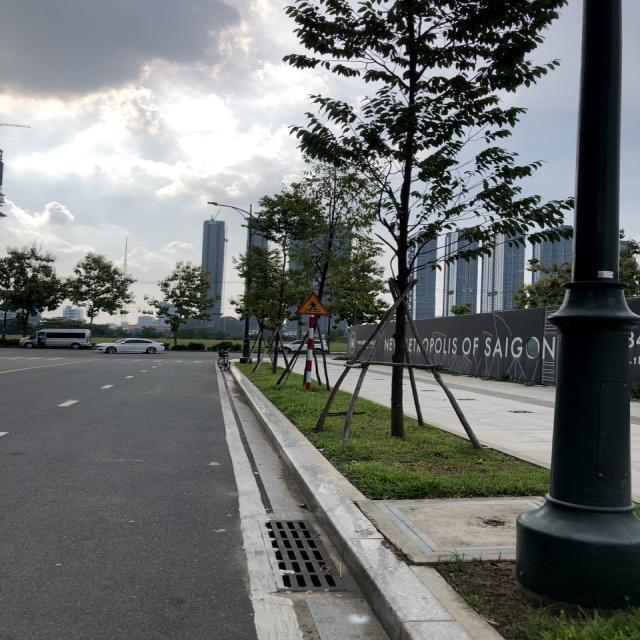Bien bao duong nguoi di bo cat ngang: (292, 287, 334, 320)
